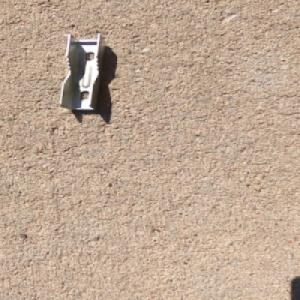ClampPart: (56, 32, 109, 113)
